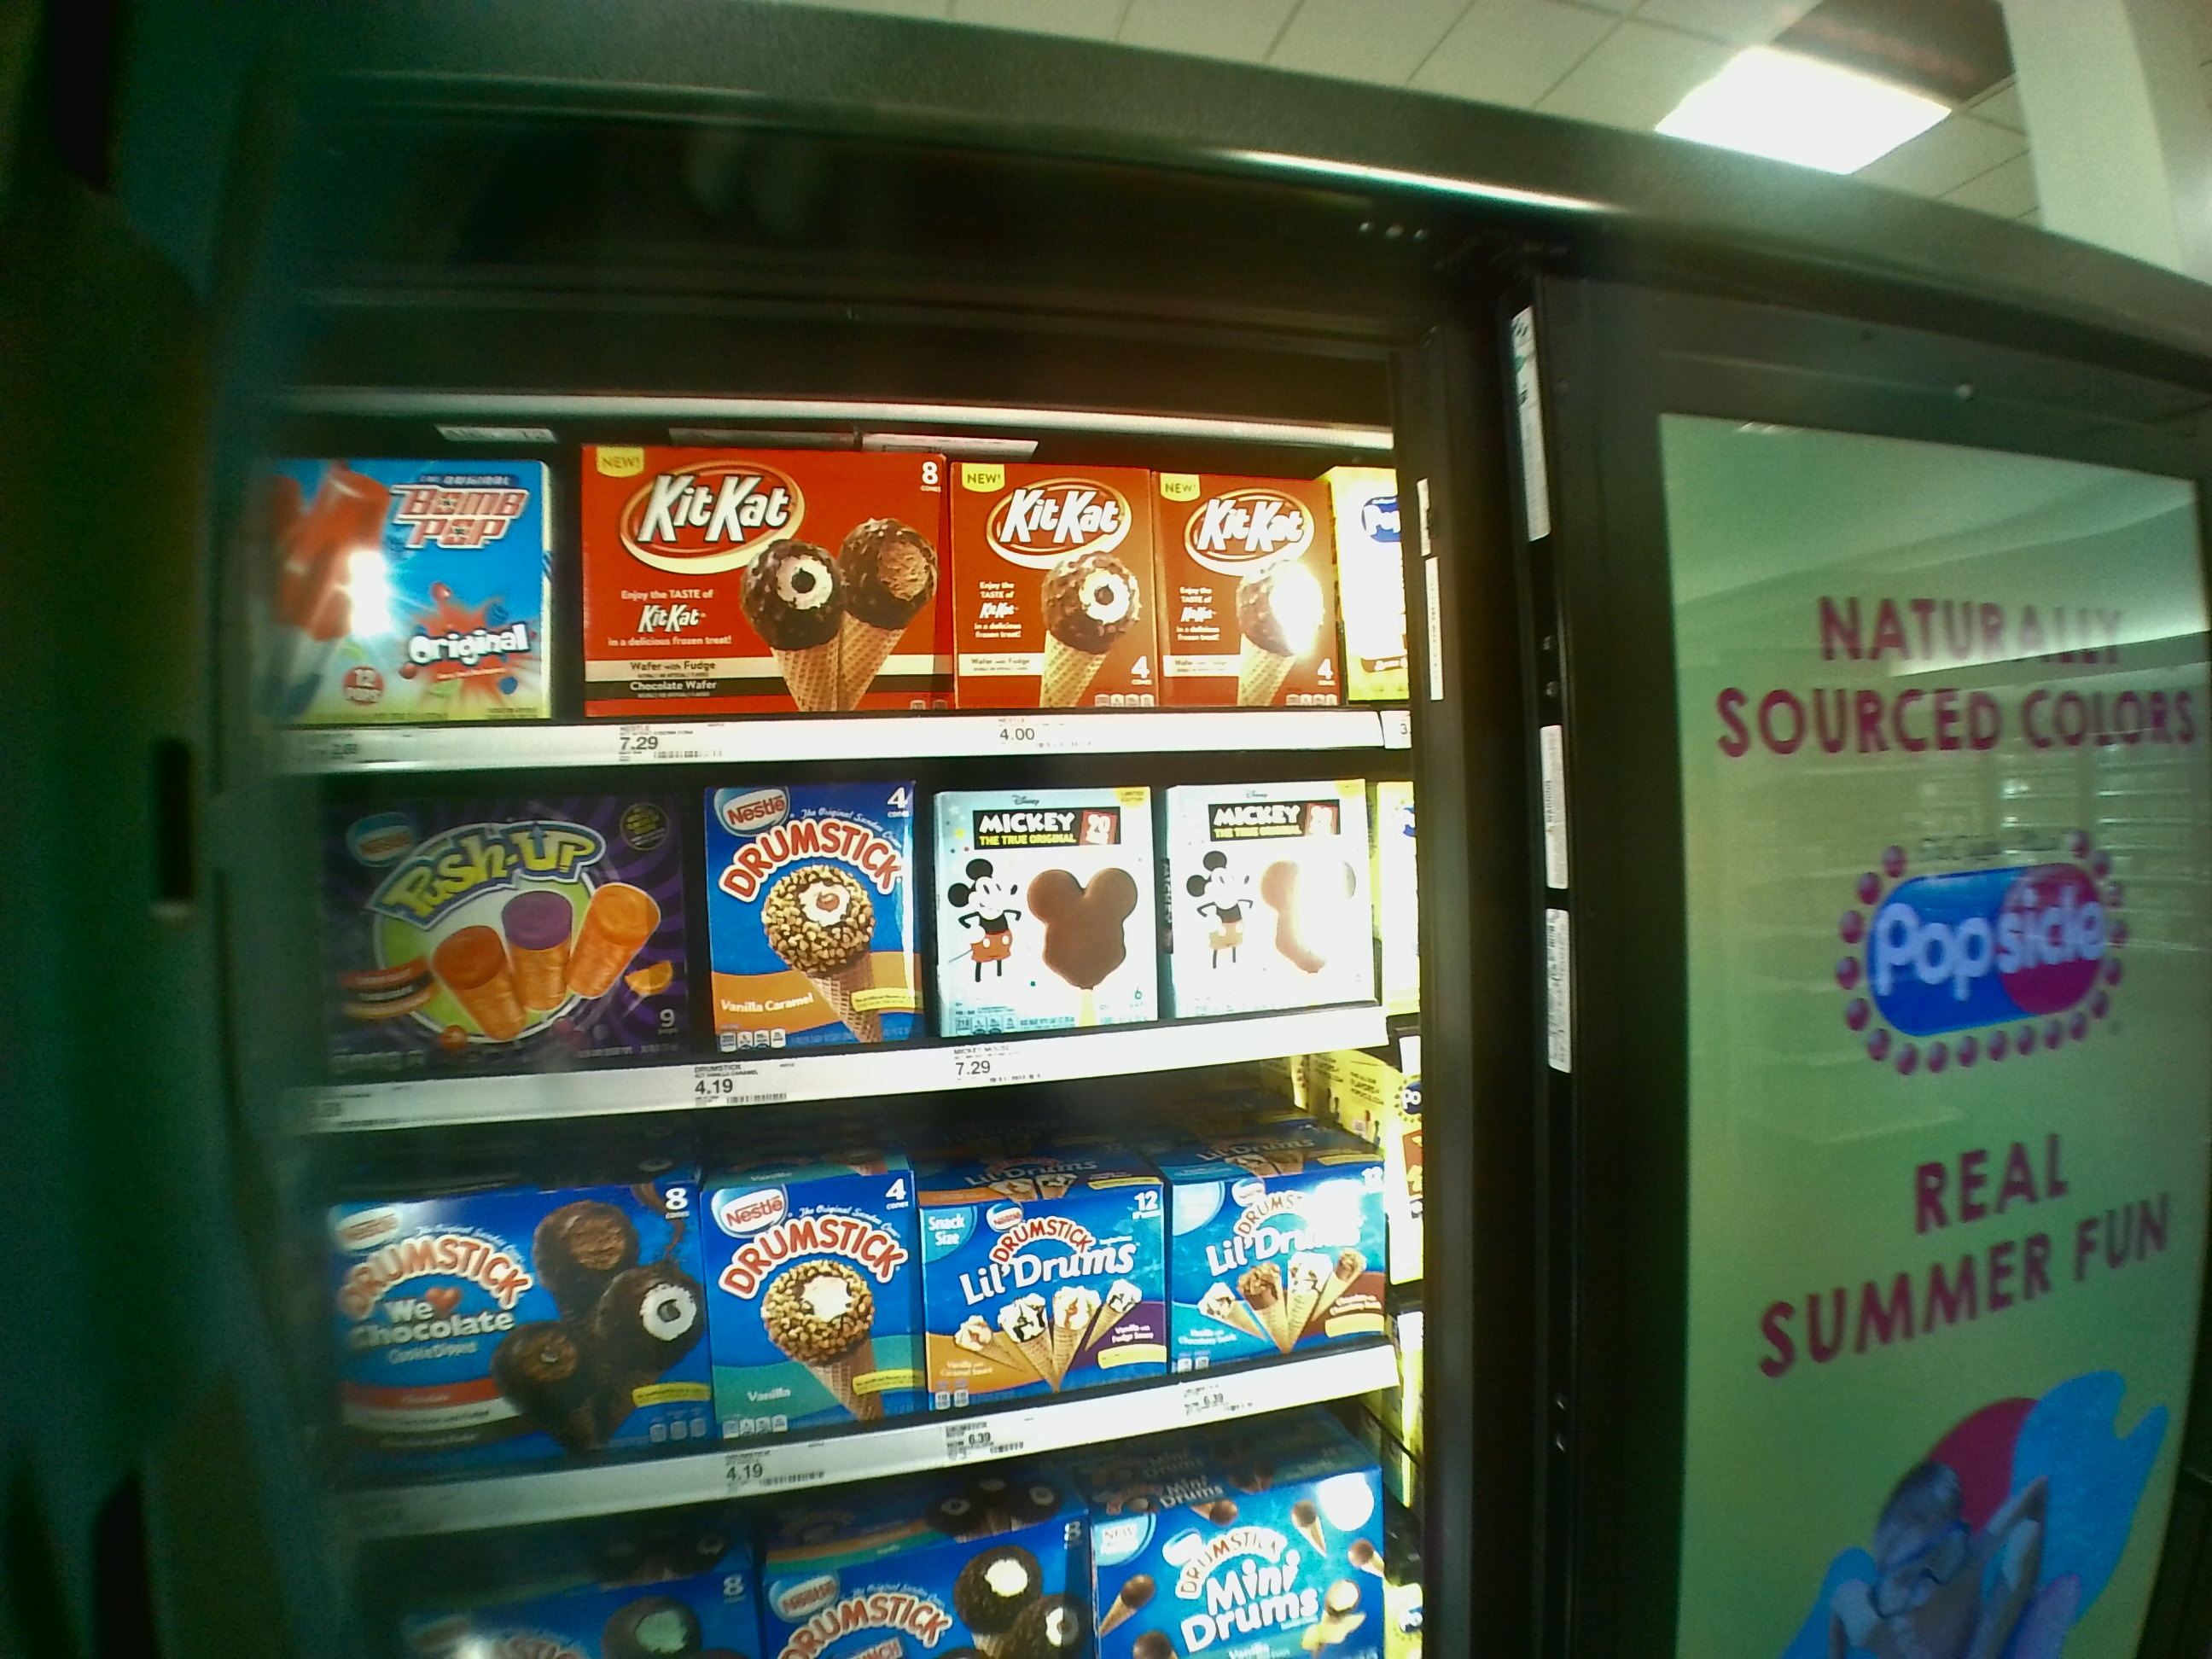shelf: (251, 401, 1388, 777), (331, 1107, 1413, 1502), (300, 770, 1372, 1119)
